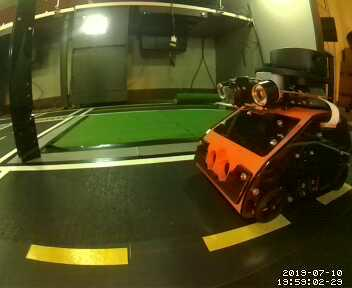pheeno: (195, 47, 352, 227)
